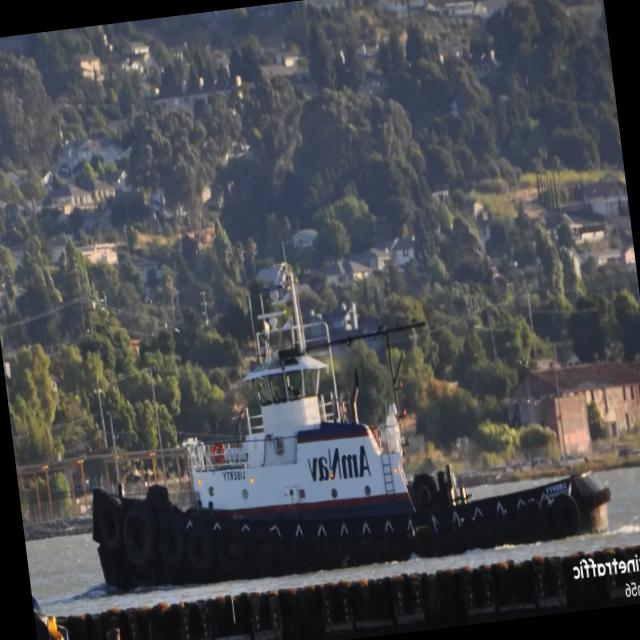Tug: (92, 261, 610, 589)
